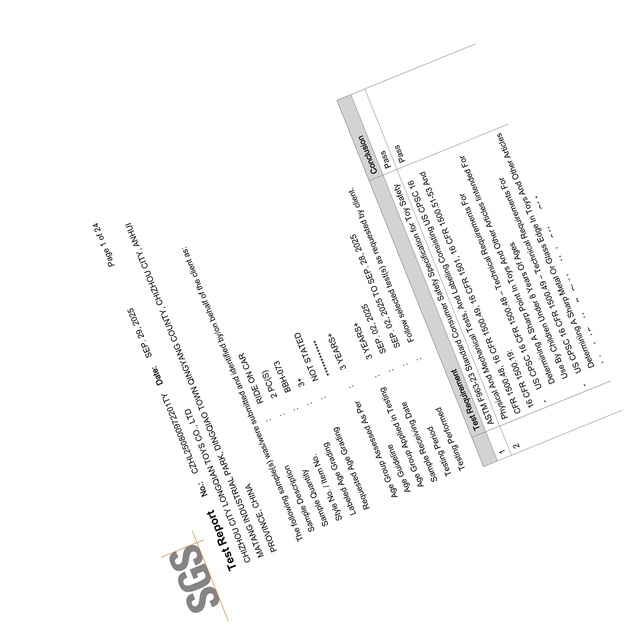sgs: (170, 543, 221, 614)
